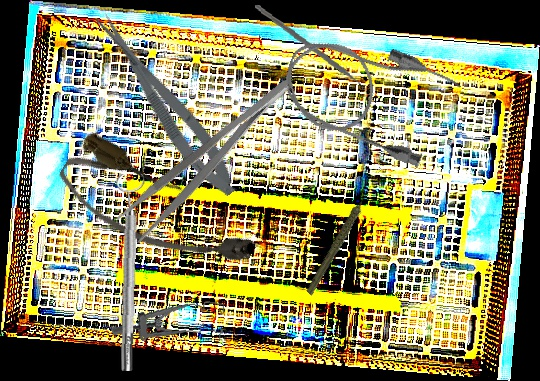Cannula: (49, 127, 265, 296), (271, 16, 465, 172)
Chopper: (247, 4, 375, 101)
Dressing Forceps: (113, 74, 307, 246)
Fixation Ring: (109, 173, 148, 372)
Handpiece: (288, 191, 391, 297)
Micro Scissor: (89, 3, 245, 205)
Speculum: (110, 288, 228, 352)
